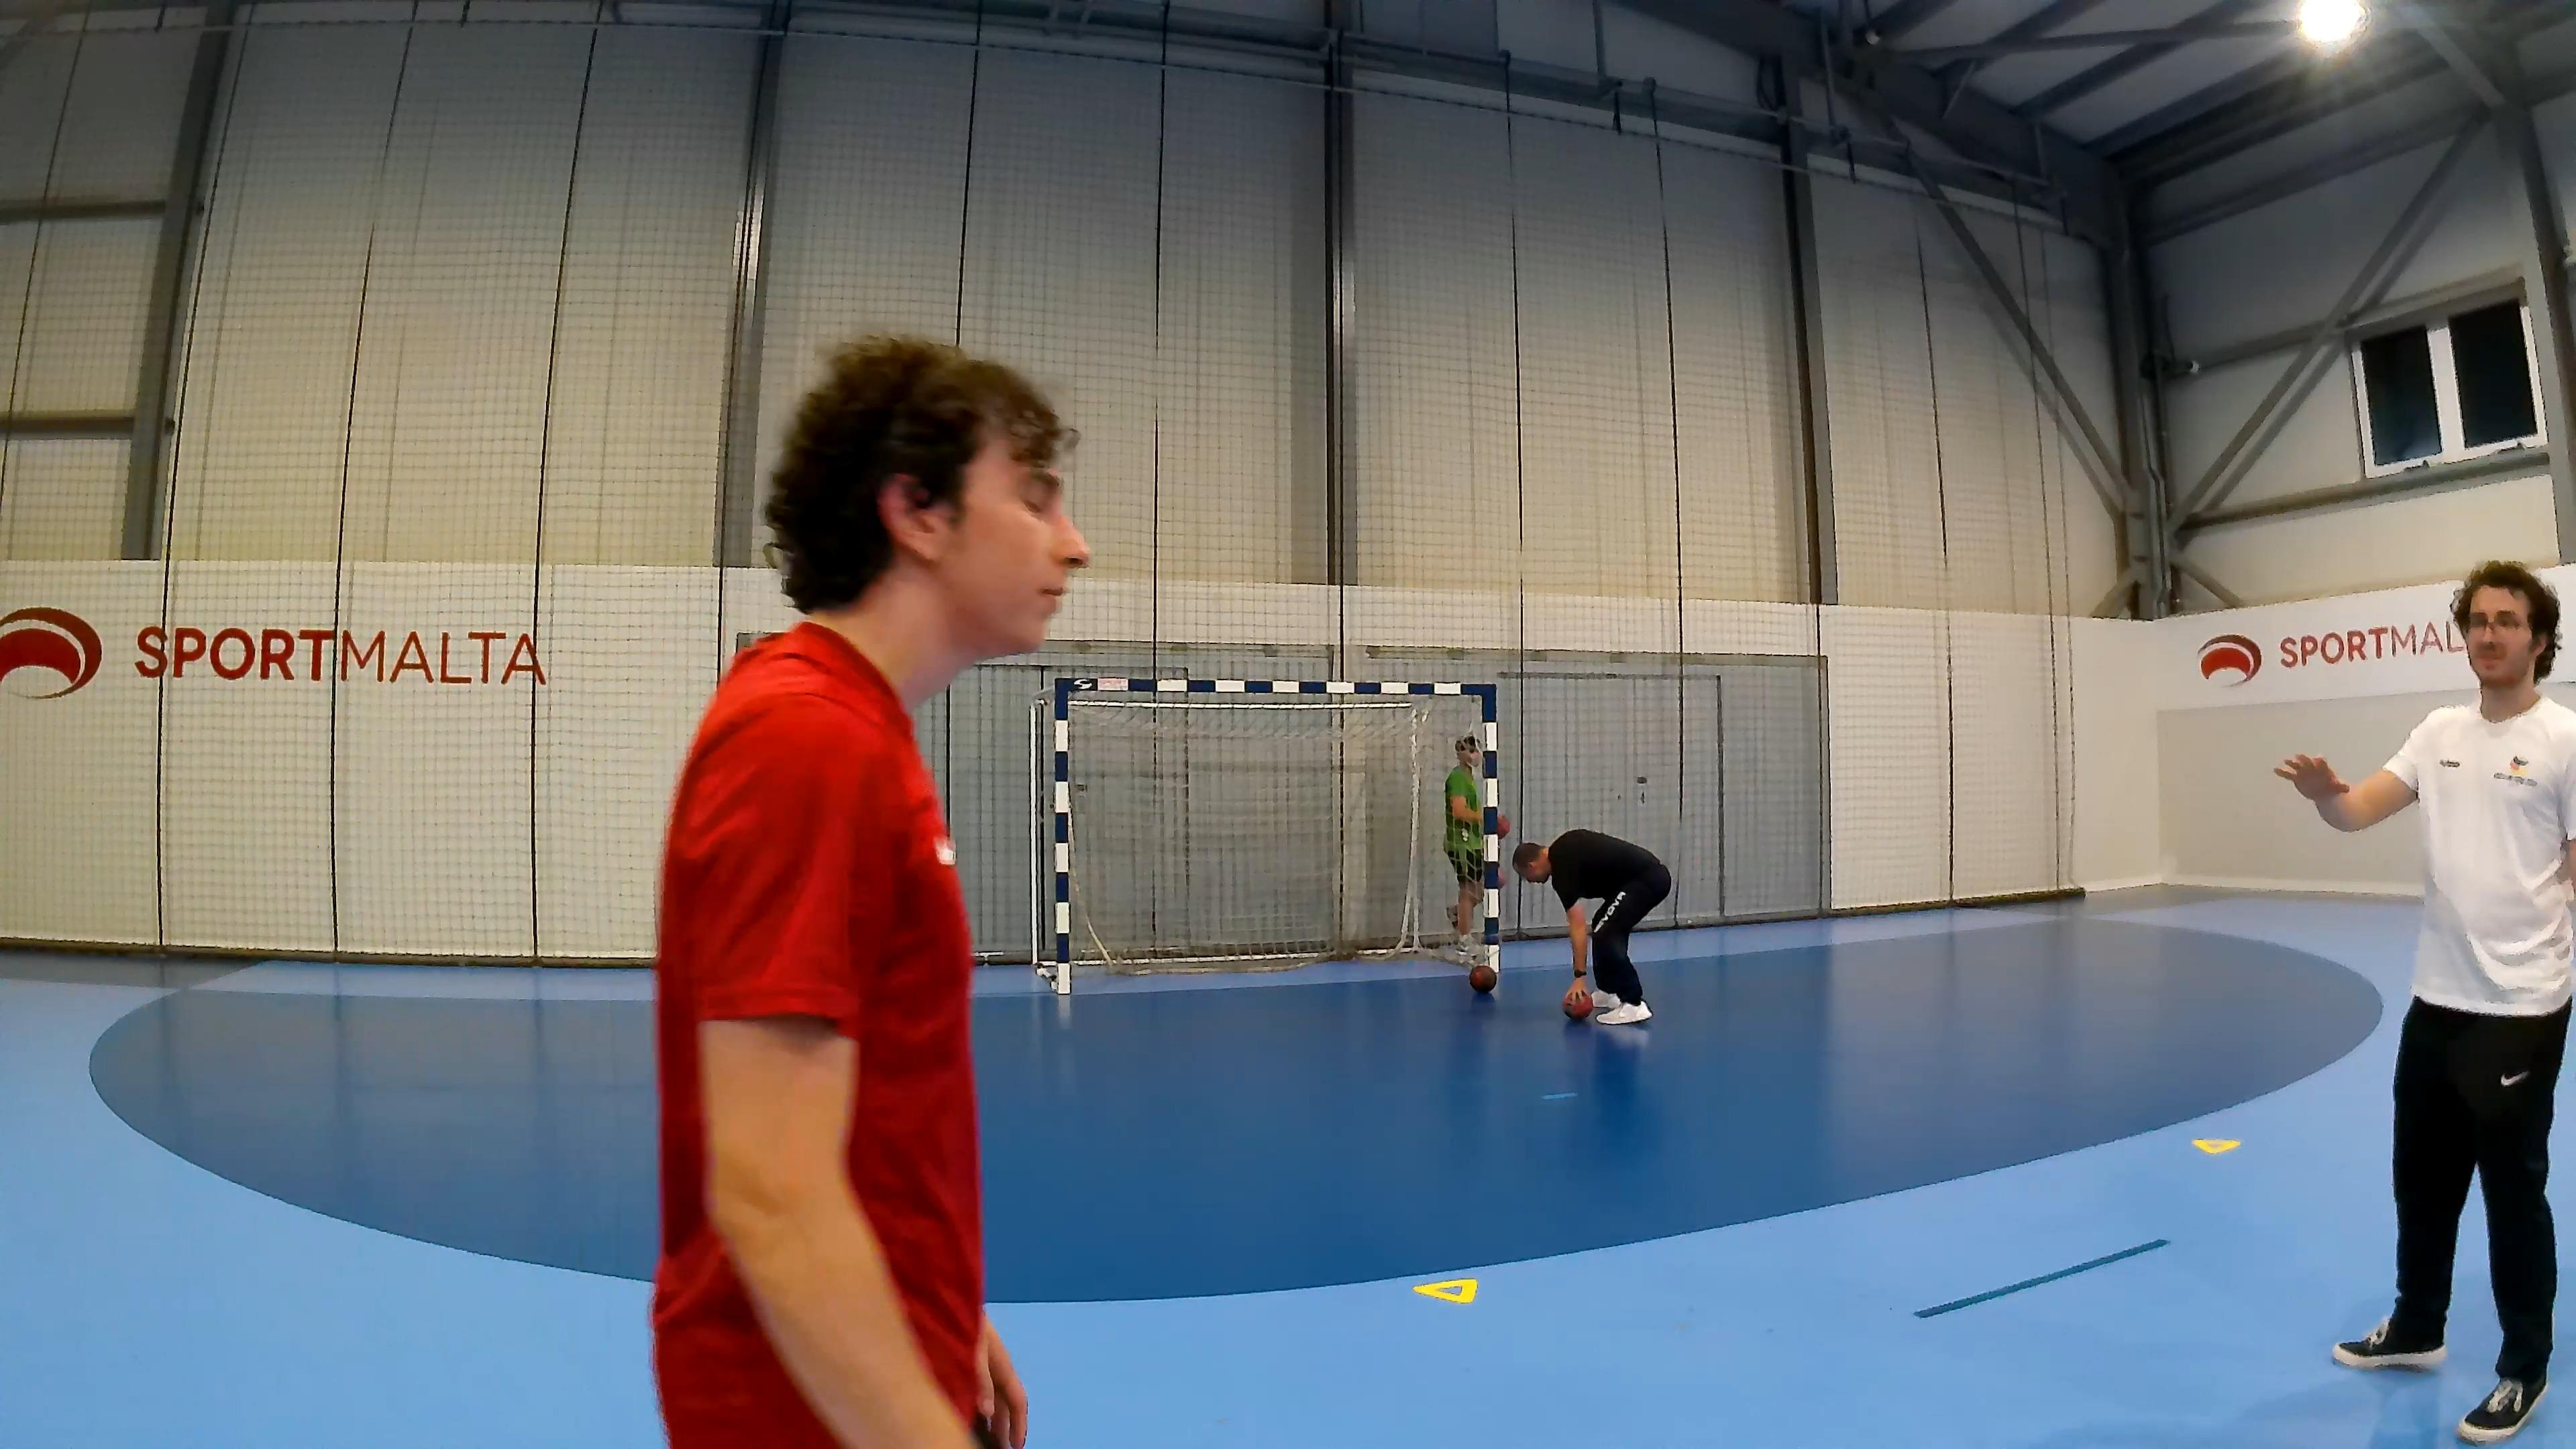handball: (1560, 982, 1594, 1017), (1468, 962, 1497, 993)
